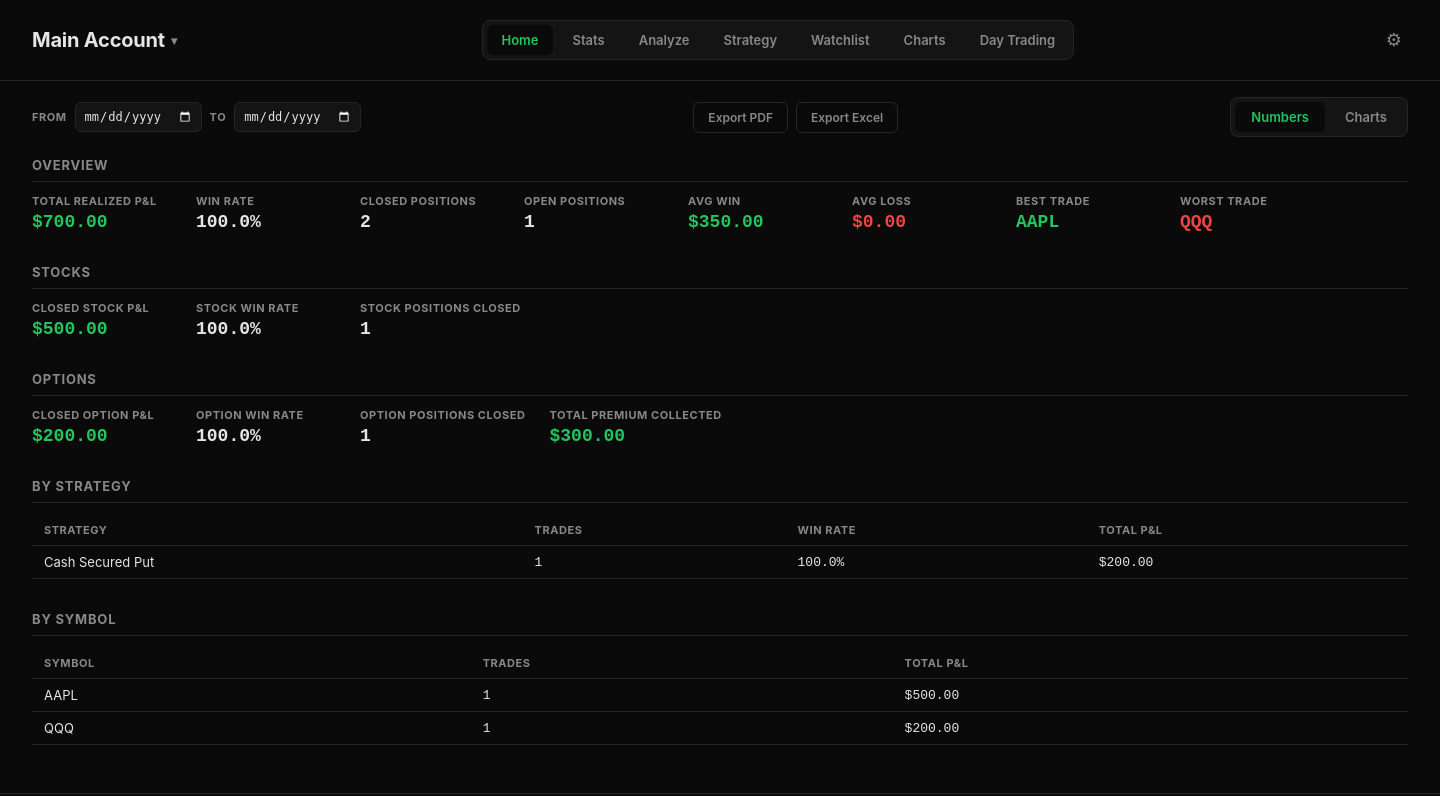
StatsPage › filters everything by sell date when an end date is set
Type "2026-01-11" into the date field labelled "To" at x=298, y=117, box left=234, top=102, right=361, bottom=132
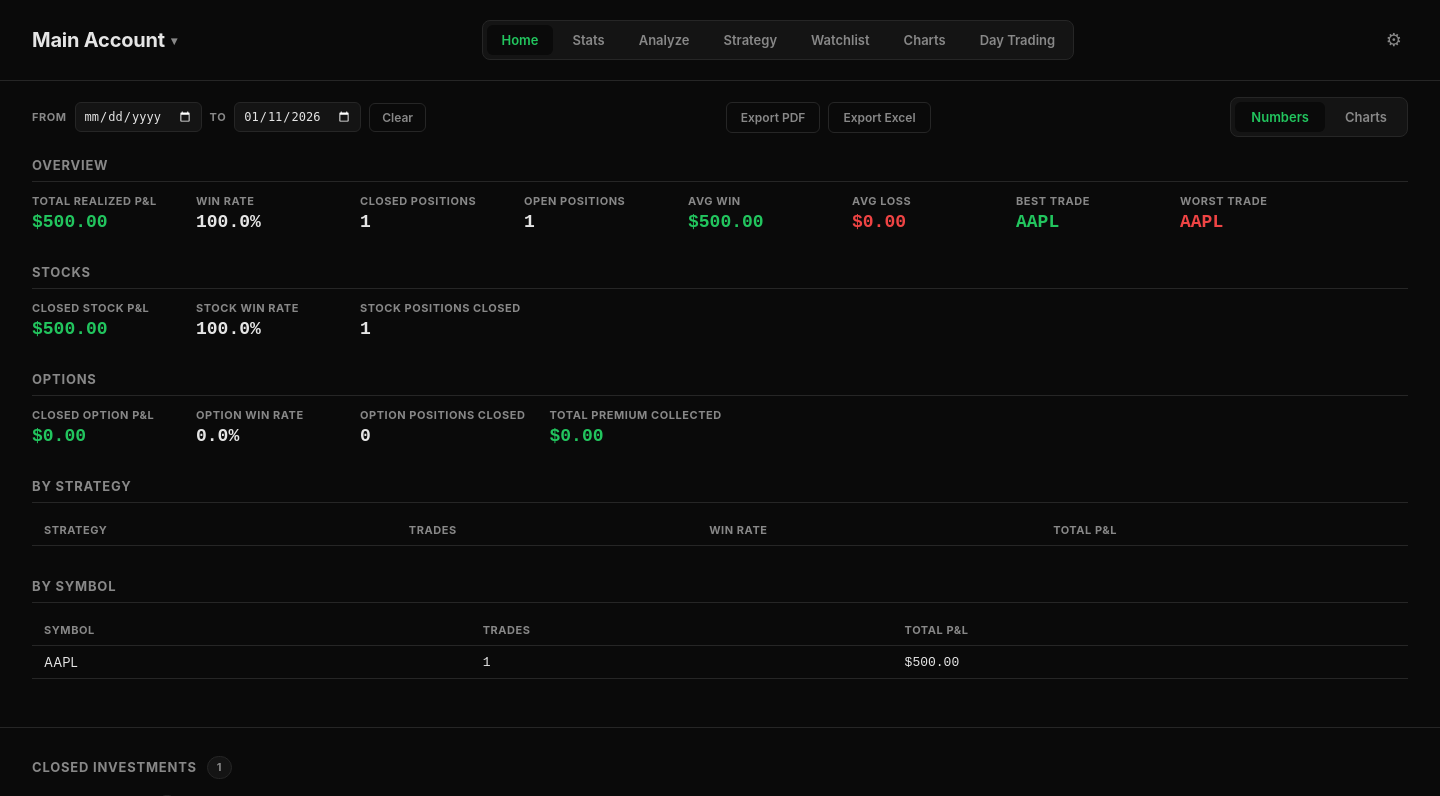
Result: the text "QQQ" is gone
